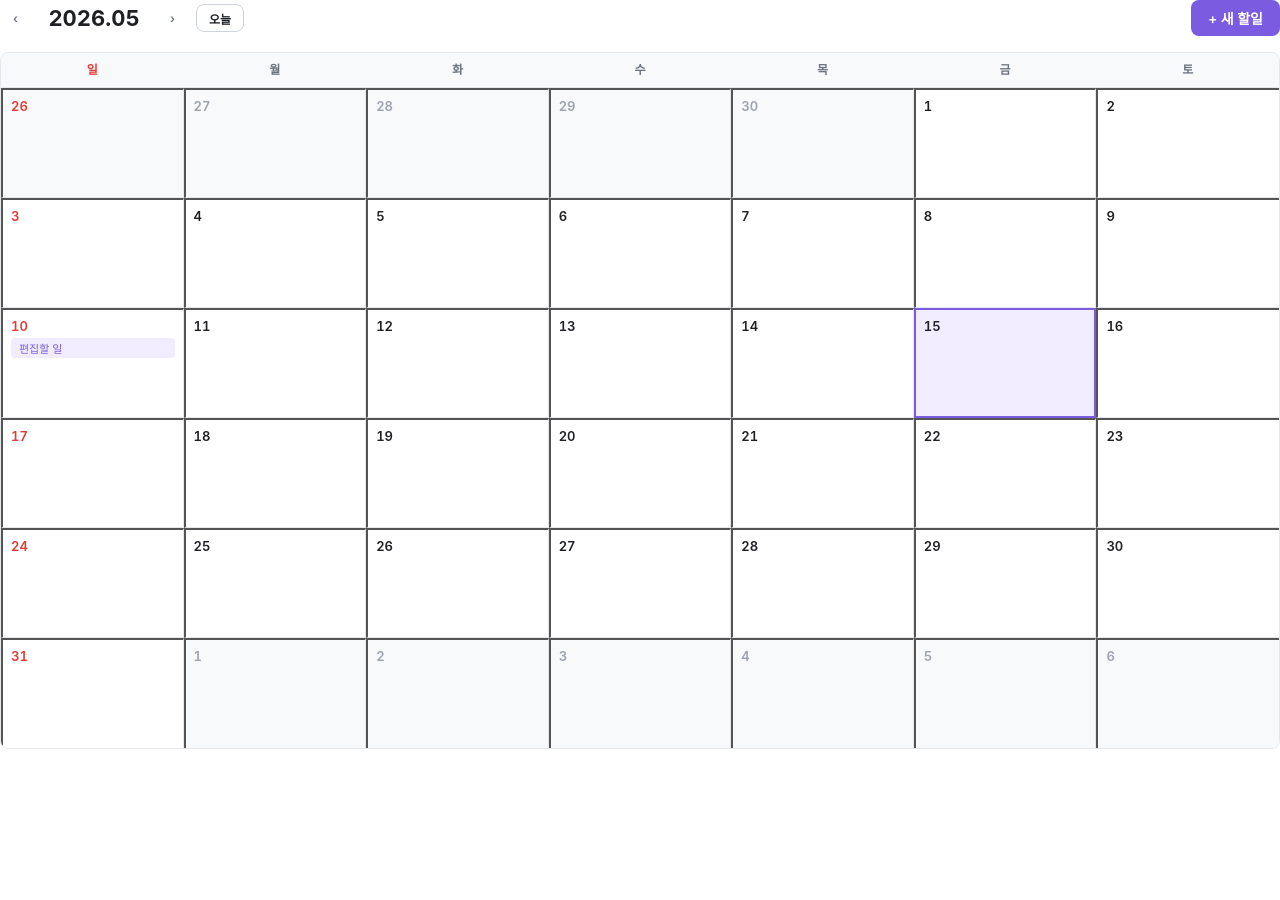
it: HomePage (캘린더 뷰) › 캘린더 할일 클릭 → 수정 모달
What coordinates should you click on to do the following:
click the text "편집할 일"
I would click on:
 (93, 348)
Its box is x1=11 y1=338 x2=175 y2=358.
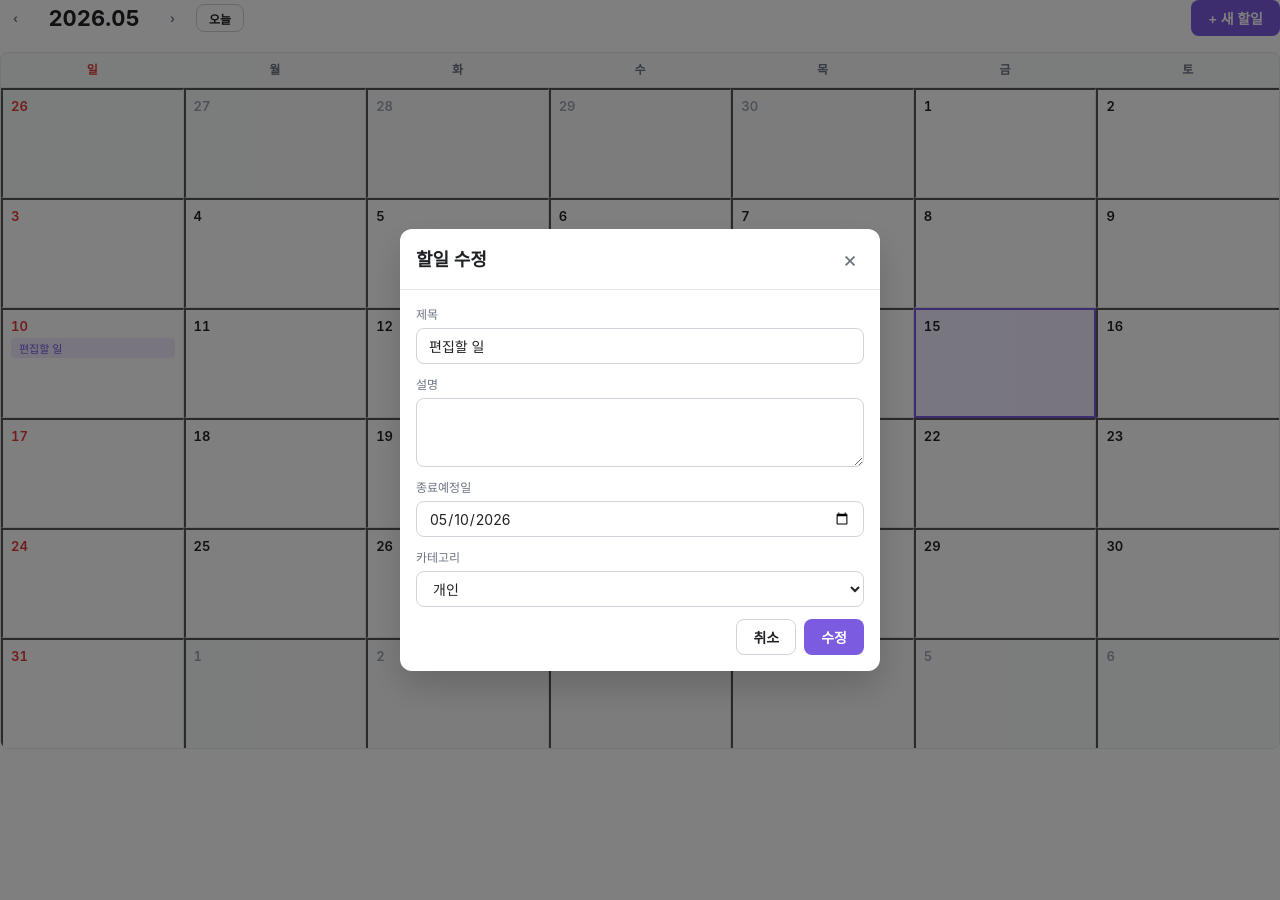
Expected: the heading "할일 수정" is shown, x1=416 y1=246 x2=487 y2=272
Expected: the field labelled "제목" holds "편집할 일", x1=416 y1=328 x2=864 y2=364
